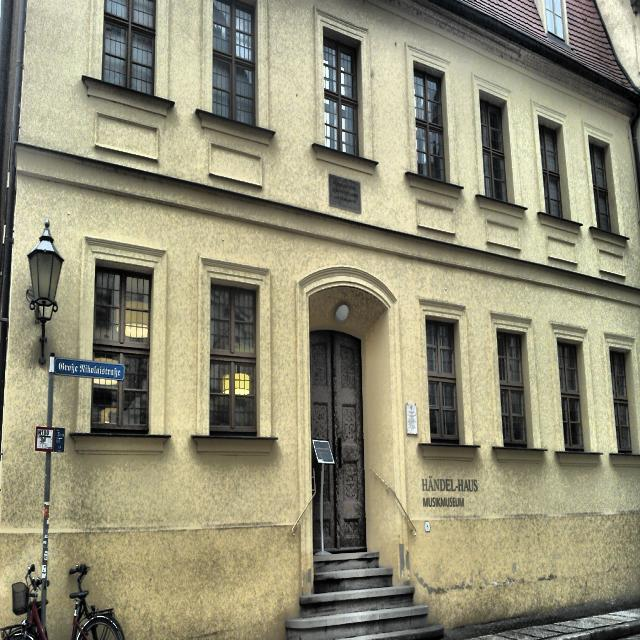escada: (284, 552, 441, 640)
